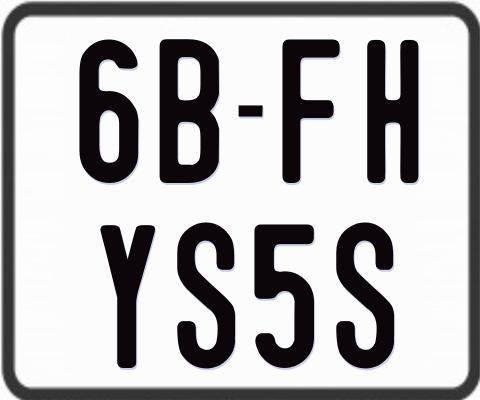5: (254, 222, 314, 366)
6: (79, 38, 143, 184)
B: (159, 36, 224, 183)
F: (282, 37, 340, 185)
H: (367, 38, 421, 181)
S: (175, 221, 237, 370), (333, 220, 393, 368)
Y: (101, 225, 157, 370)
